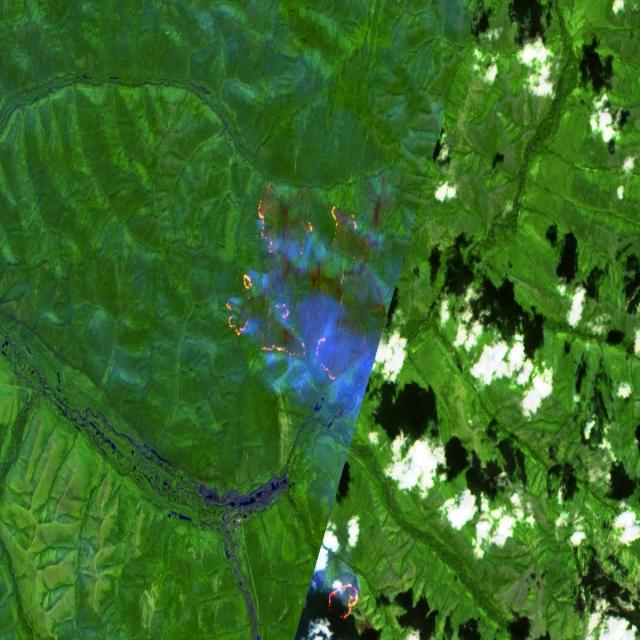fire: (219, 172, 385, 392), (326, 577, 362, 631)
